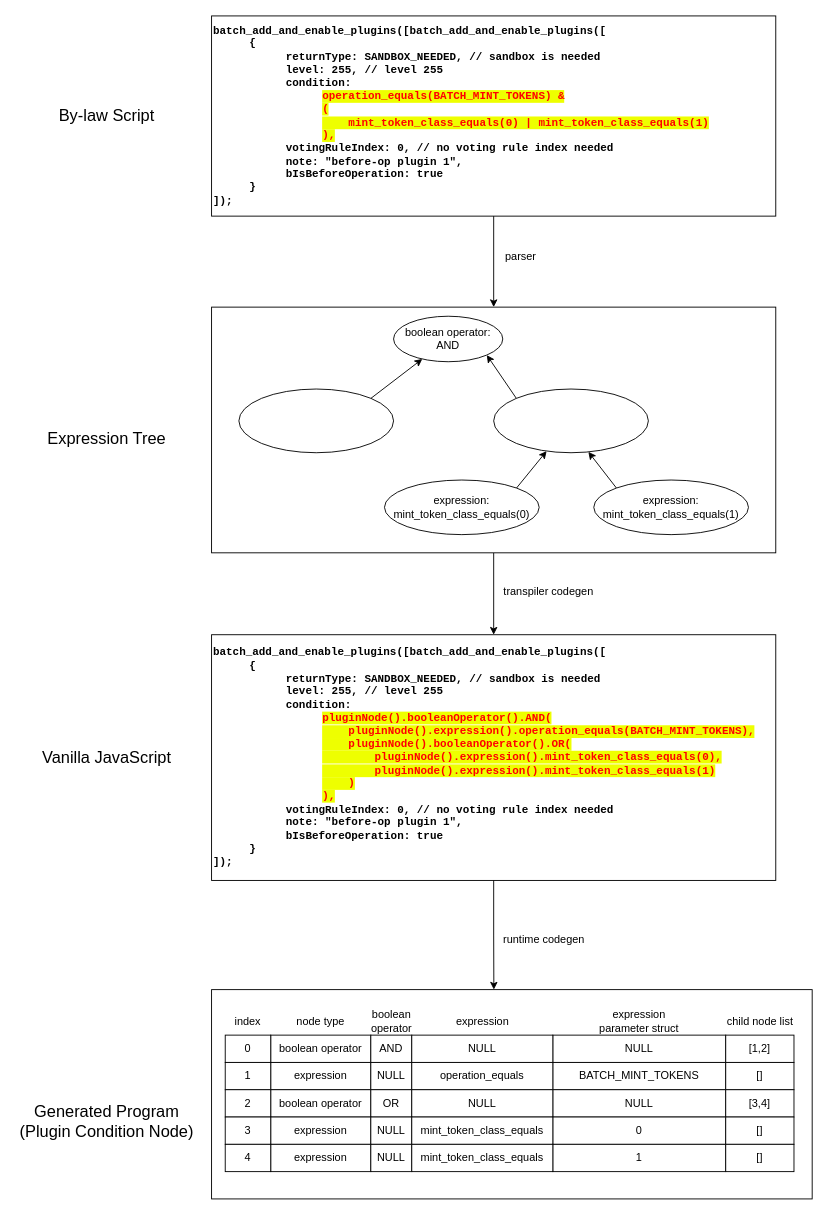
The diagram is 828 pixels wide and 1215 high, and some of its shapes have lost their labels. Here are the shapes that lost their labels. From the top down, the centre of each, then its label:
At (316,420): "expression: operation_equals( BATCH_MINT_TOKENS)".
At (570,420): "boolean operator: OR".
